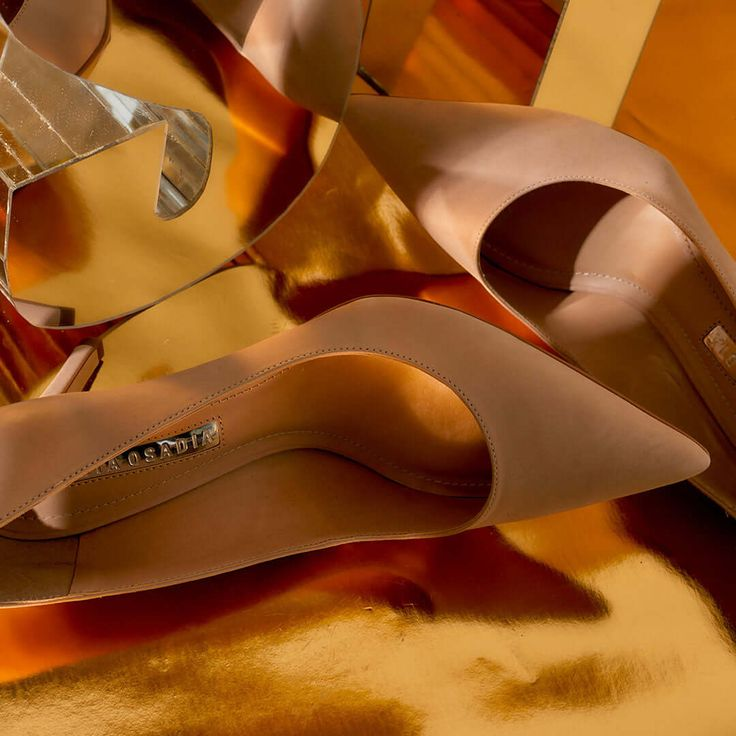gamuza: (2, 95, 736, 609)
